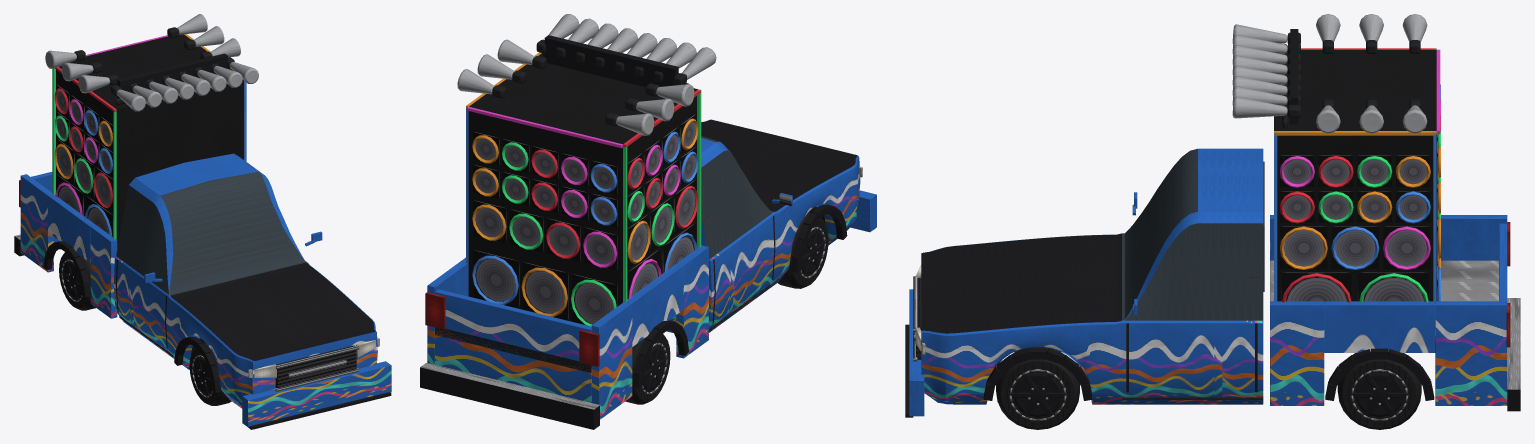
File: ThaiSoundTruck.fbx
The picture shows the model from 3 angles, left to right: view 1: azimuth 30°, elevation 25°; view 2: azimuth 150°, elevation 25°; view 3: azimuth 270°, elevation 25°; orthographic projection. The views are drawn at different scales.
Visible parts, largest first — view 1: ThaiSoundTruck, ThaiSoundTruck_Glass, ThaiSoundTruck_Horns, ThaiSoundTruck_LED2_Neon, Wheel_FR, Wheel_RR, ThaiSoundTruck_LED1_Neon, ThaiSoundTruck_LED4_Neon, ThaiSoundTruck_LED5_Neon, ThaiSoundTruck_LED3_Neon; view 2: ThaiSoundTruck, ThaiSoundTruck_Horns, ThaiSoundTruck_Glass, ThaiSoundTruck_LED2_Neon, ThaiSoundTruck_LED5_Neon, ThaiSoundTruck_LED4_Neon, ThaiSoundTruck_LED3_Neon, ThaiSoundTruck_LED1_Neon, Wheel_FR, Wheel_RR; view 3: ThaiSoundTruck, ThaiSoundTruck_Glass, ThaiSoundTruck_Horns, Wheel_FL, Wheel_RL, ThaiSoundTruck_LED3_Neon, ThaiSoundTruck_LED4_Neon, ThaiSoundTruck_LED1_Neon, ThaiSoundTruck_LED5_Neon, ThaiSoundTruck_LED2_Neon.
Boxes of the visible parts, bbox=[...] form: ThaiSoundTruck: bbox=[14, 34, 391, 429]; ThaiSoundTruck_Glass: bbox=[116, 171, 305, 295]; ThaiSoundTruck_Horns: bbox=[45, 14, 258, 111]; ThaiSoundTruck_LED2_Neon: bbox=[52, 68, 116, 239]; Wheel_FR: bbox=[189, 342, 231, 405]; Wheel_RR: bbox=[59, 252, 95, 310]; ThaiSoundTruck_LED1_Neon: bbox=[54, 67, 116, 207]; ThaiSoundTruck_LED4_Neon: bbox=[84, 81, 246, 237]; ThaiSoundTruck_LED5_Neon: bbox=[55, 35, 167, 215]; ThaiSoundTruck_LED3_Neon: bbox=[54, 34, 232, 179]; ThaiSoundTruck: bbox=[420, 35, 876, 429]; ThaiSoundTruck_Horns: bbox=[457, 14, 716, 135]; ThaiSoundTruck_Glass: bbox=[701, 136, 773, 259]; ThaiSoundTruck_LED2_Neon: bbox=[501, 89, 701, 326]; ThaiSoundTruck_LED5_Neon: bbox=[467, 106, 680, 298]; ThaiSoundTruck_LED4_Neon: bbox=[466, 108, 698, 304]; ThaiSoundTruck_LED3_Neon: bbox=[466, 52, 698, 316]; ThaiSoundTruck_LED1_Neon: bbox=[531, 89, 701, 258]; Wheel_FR: bbox=[778, 212, 828, 288]; Wheel_RR: bbox=[625, 334, 670, 404]; ThaiSoundTruck: bbox=[905, 29, 1520, 417]; ThaiSoundTruck_Glass: bbox=[1122, 148, 1264, 320]; ThaiSoundTruck_Horns: bbox=[1232, 14, 1427, 133]; Wheel_FL: bbox=[996, 347, 1079, 429]; Wheel_RL: bbox=[1337, 353, 1421, 429]; ThaiSoundTruck_LED3_Neon: bbox=[1274, 131, 1440, 269]; ThaiSoundTruck_LED4_Neon: bbox=[1274, 84, 1440, 302]; ThaiSoundTruck_LED1_Neon: bbox=[1280, 48, 1440, 302]; ThaiSoundTruck_LED5_Neon: bbox=[1280, 49, 1440, 269]; ThaiSoundTruck_LED2_Neon: bbox=[1318, 48, 1440, 302].
Bounding box in the file's own units: 276 × 375 × 636.
1 material, 1 textured.
